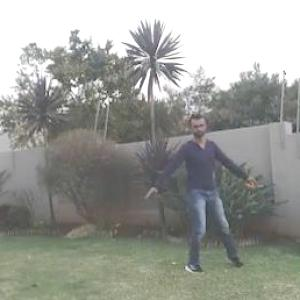land: (126, 109, 264, 279)
